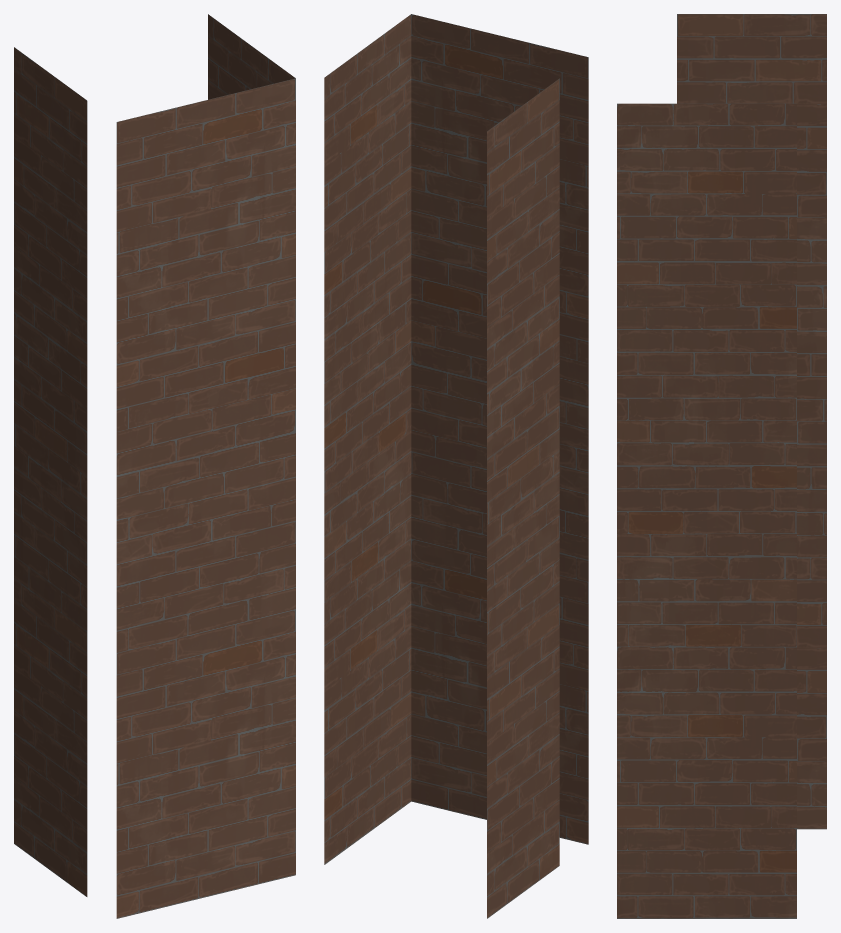
The model's file is Brick_90Angle_L.gltf.
3 renders of one model, left to right at view 1: azimuth 30°, elevation 25°; view 2: azimuth 150°, elevation 25°; view 3: azimuth 270°, elevation 25°, orthographic. The views are drawn at different scales.
Parts seen in each view (by area): view 1: Brick_90Angle_L; view 2: Brick_90Angle_L; view 3: Brick_90Angle_L.
Boxes of the visible parts, <box> form: Brick_90Angle_L: <box>14,14,295,918</box>; Brick_90Angle_L: <box>324,14,588,918</box>; Brick_90Angle_L: <box>617,14,826,918</box>.
Size of the model in its own units: 0.7062 by 3 by 0.7.
2 materials, 2 textured.
